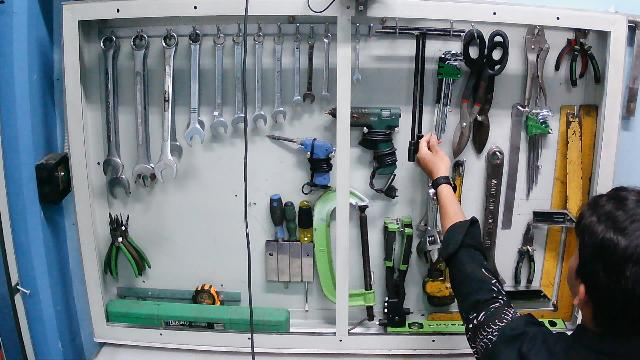kunci_l: (432, 49, 467, 151)
